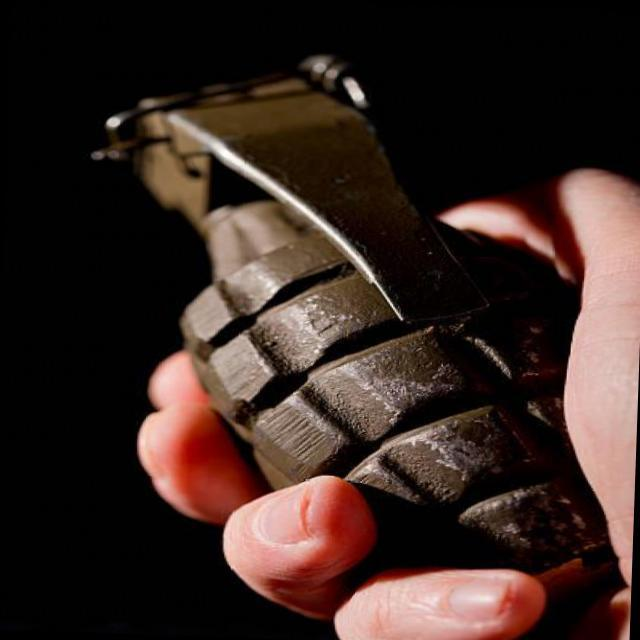grenade: (80, 56, 626, 572)
